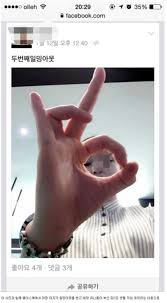ilbe: (28, 68, 140, 238)
